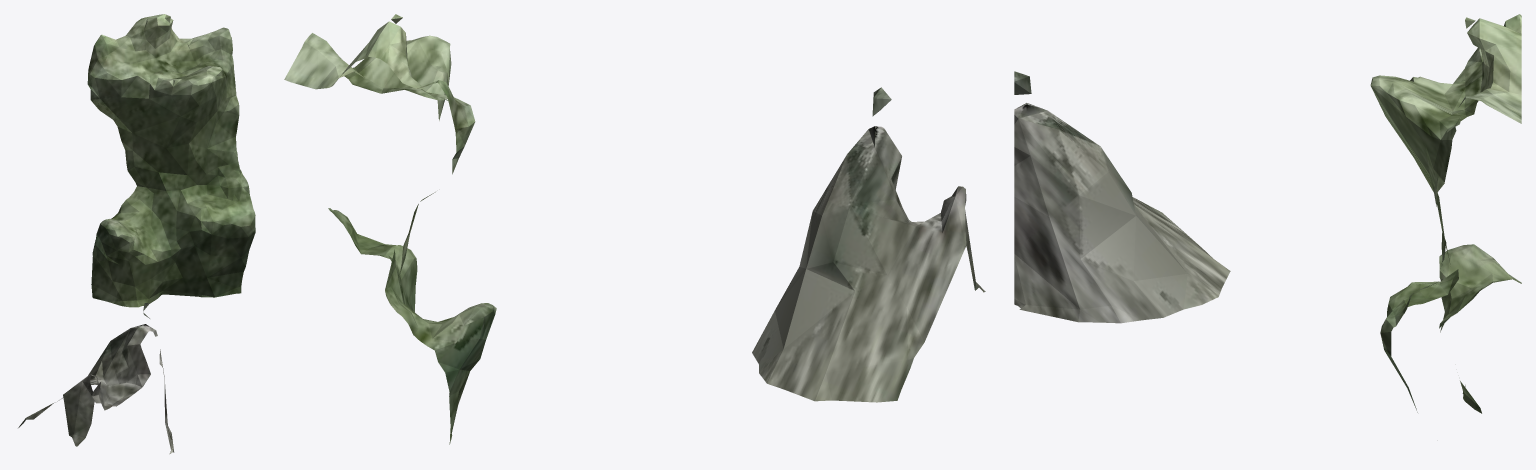
The picture shows the model from 3 angles, left to right: view 1: azimuth 30°, elevation 25°; view 2: azimuth 150°, elevation 25°; view 3: azimuth 270°, elevation 25°; orthographic projection. The views are drawn at different scales.
Bounding box in the file's own units: 5.9 × 5.08 × 5.9.
2 materials, 2 textured.
